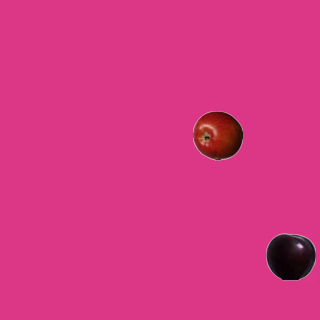Apple Braeburn: (192, 110, 242, 160)
Cherry Wax Black: (265, 231, 315, 281)
